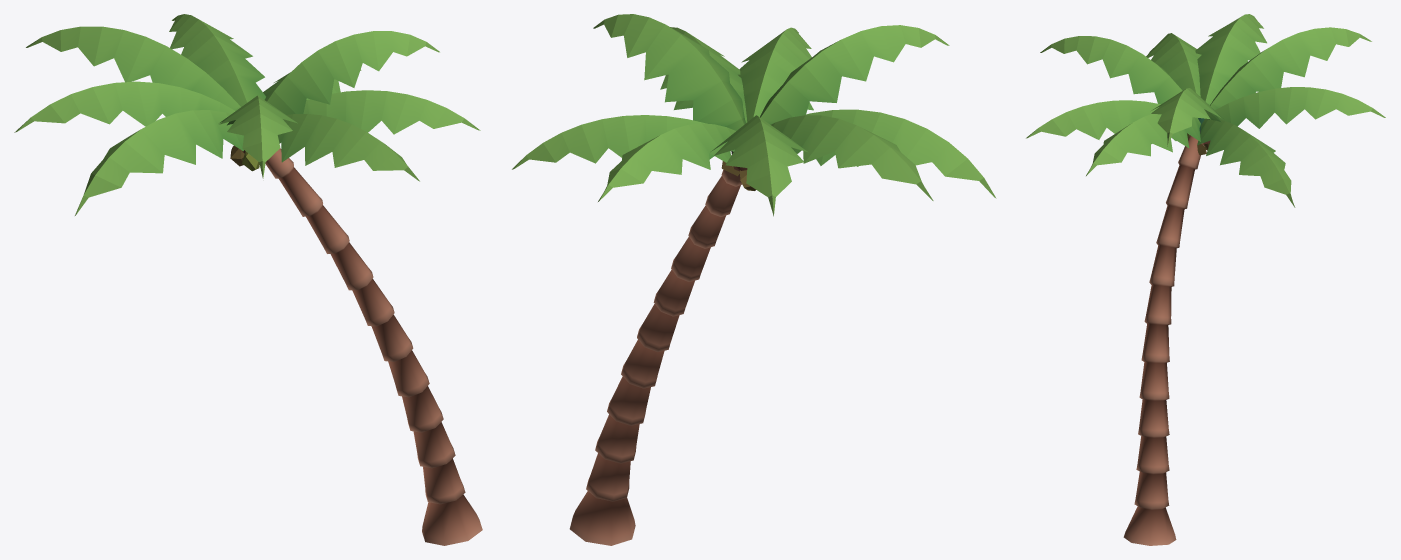
The model's file is palm_lean.glb.
3 views of the same model, side by side, from view 1: azimuth 30°, elevation 25°; view 2: azimuth 150°, elevation 25°; view 3: azimuth 270°, elevation 25° (orthographic). The views are drawn at different scales.
Parts seen in each view (by area): view 1: palm_lean; view 2: palm_lean; view 3: palm_lean.
Boxes of the visible parts, <box> form: palm_lean: <box>14,14,482,545</box>; palm_lean: <box>512,14,996,545</box>; palm_lean: <box>1026,14,1385,545</box>.
Bounding box in the file's own units: 6.43 × 7.77 × 6.06.
